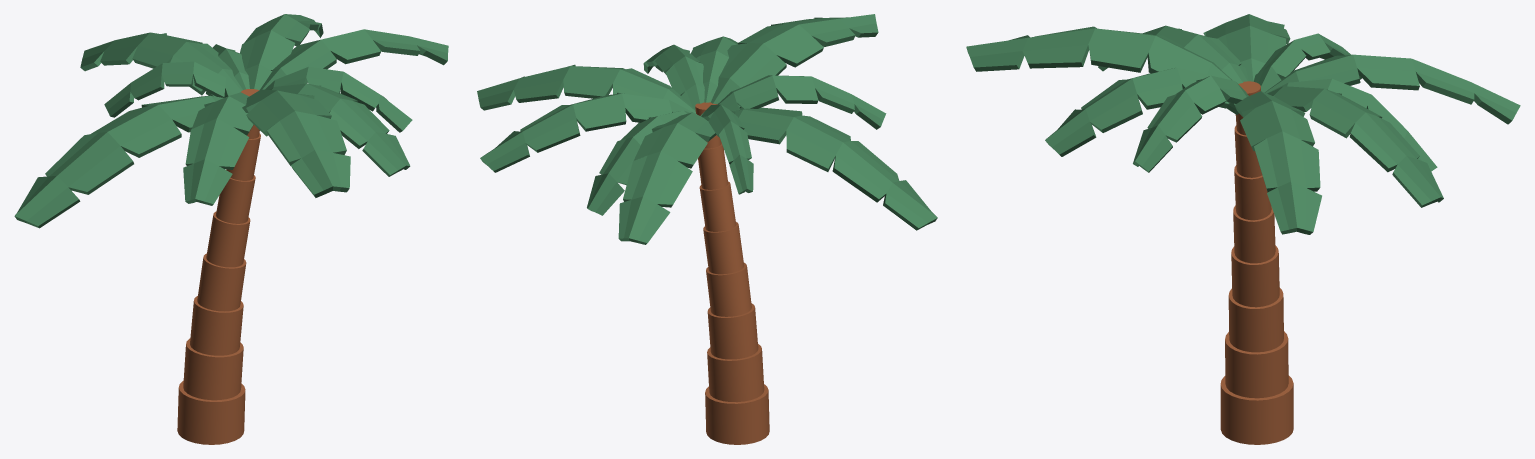
Rendered from palmtree2.fbx.
The picture shows the model from 3 angles, left to right: view 1: azimuth 30°, elevation 25°; view 2: azimuth 150°, elevation 25°; view 3: azimuth 270°, elevation 25°; orthographic projection. The views are drawn at different scales.
Parts seen in each view (by area): view 1: Leaves, Cylinder; view 2: Leaves, Cylinder; view 3: Leaves, Cylinder.
Part boxes in pixels (box(x1,y1,x2,y2)): Leaves: box(14, 14, 448, 228); Cylinder: box(177, 89, 260, 444); Leaves: box(477, 14, 937, 244); Cylinder: box(695, 102, 769, 444); Leaves: box(966, 14, 1520, 234); Cylinder: box(1220, 81, 1293, 444).
Size of the model in its own units: 1588 by 1229 by 1519.
